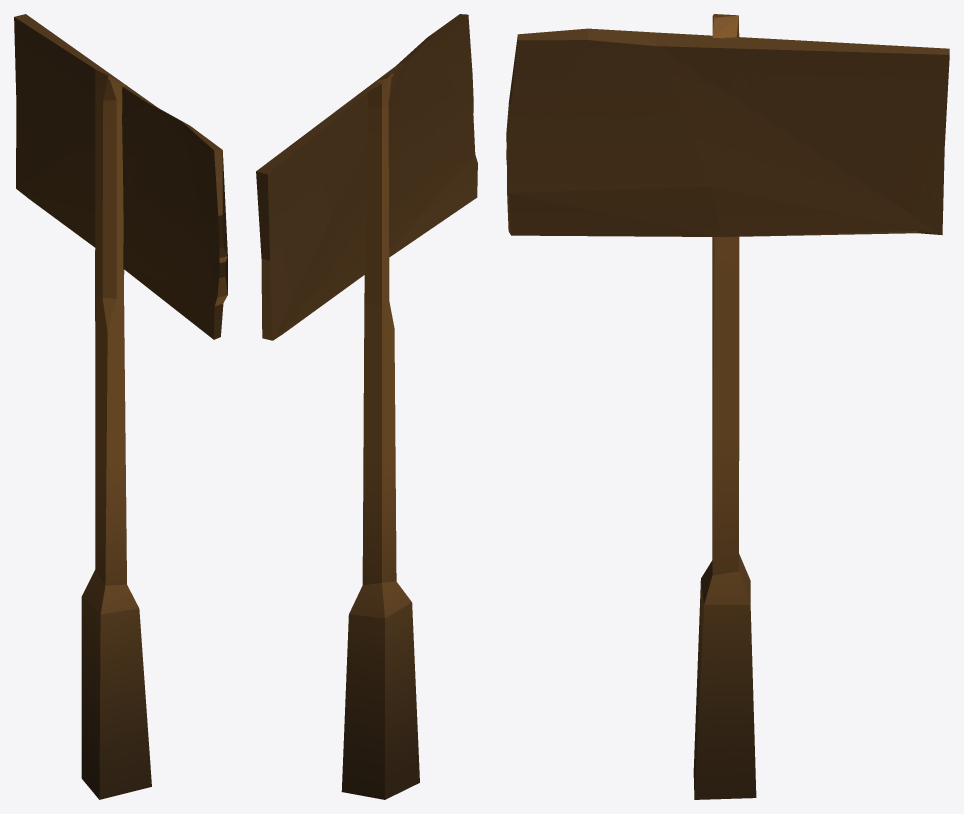
File: PlayersScoor.fbx
3 renders of one model, left to right at view 1: azimuth 30°, elevation 25°; view 2: azimuth 150°, elevation 25°; view 3: azimuth 270°, elevation 25°, orthographic. The views are drawn at different scales.
Parts seen in each view (by area): view 1: polySurface24; view 2: polySurface24; view 3: polySurface24.
Part boxes in pixels (bbox=[...]): polySurface24: bbox=[14, 14, 227, 799]; polySurface24: bbox=[256, 14, 477, 799]; polySurface24: bbox=[506, 14, 949, 799].
Bounding box in the file's own units: 19.63 × 252 × 132.
